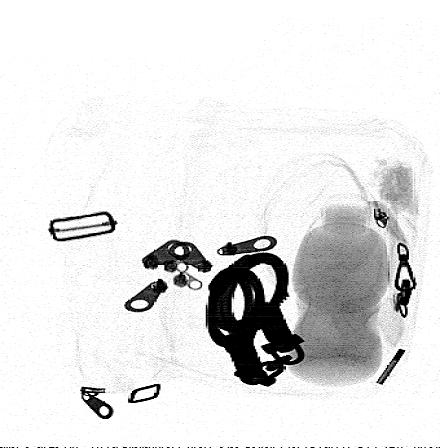HandCuffs: (204, 251, 314, 390)
